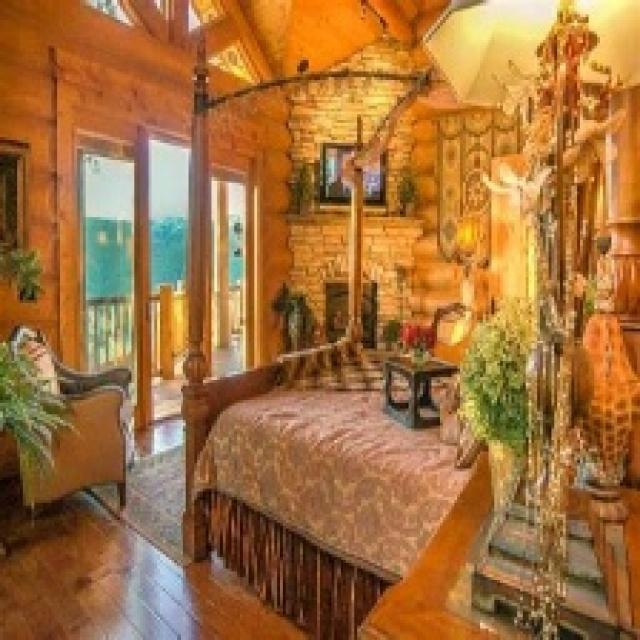Bed: (180, 334, 489, 637)
